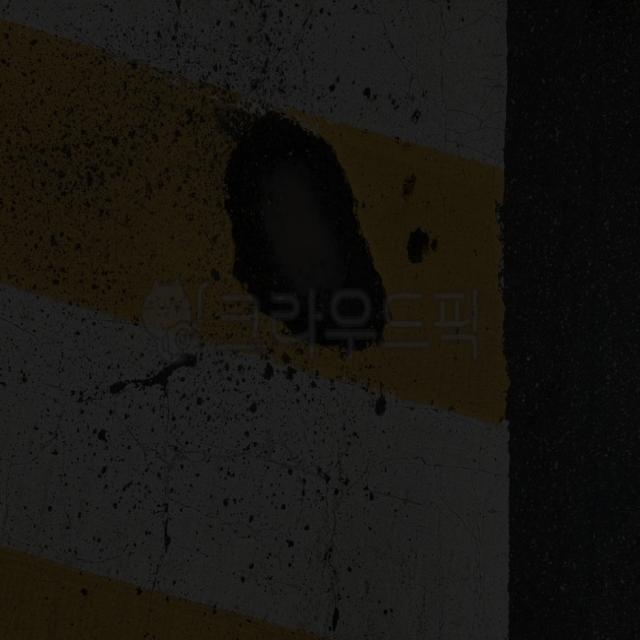pothole: (190, 103, 452, 400)
